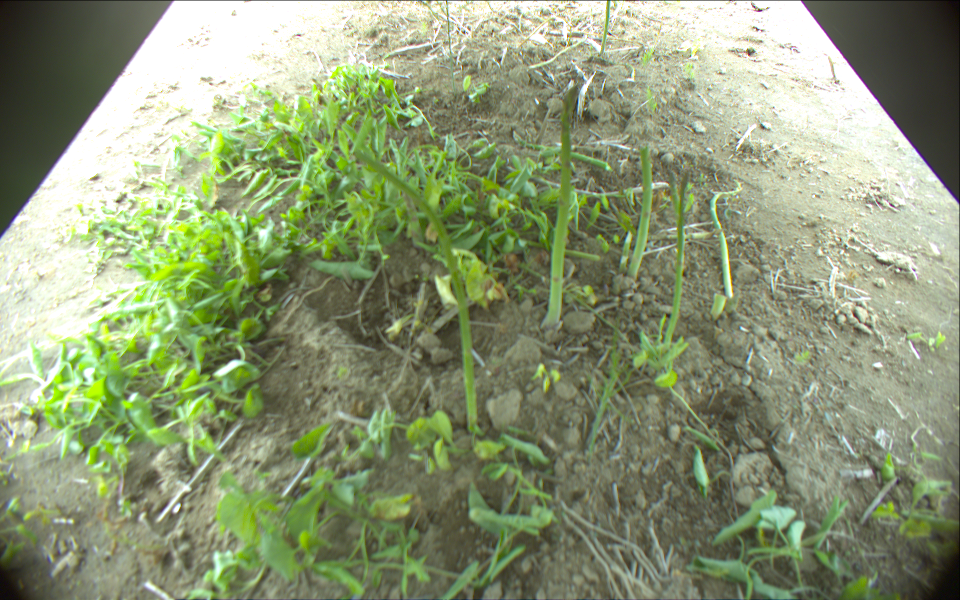aspa: (353, 148, 479, 433), (545, 84, 581, 332), (662, 163, 692, 353), (710, 180, 742, 296), (628, 142, 654, 276), (525, 139, 608, 171), (512, 238, 600, 262), (668, 169, 683, 218), (599, 1, 612, 53), (443, 1, 453, 57), (622, 225, 634, 270)
